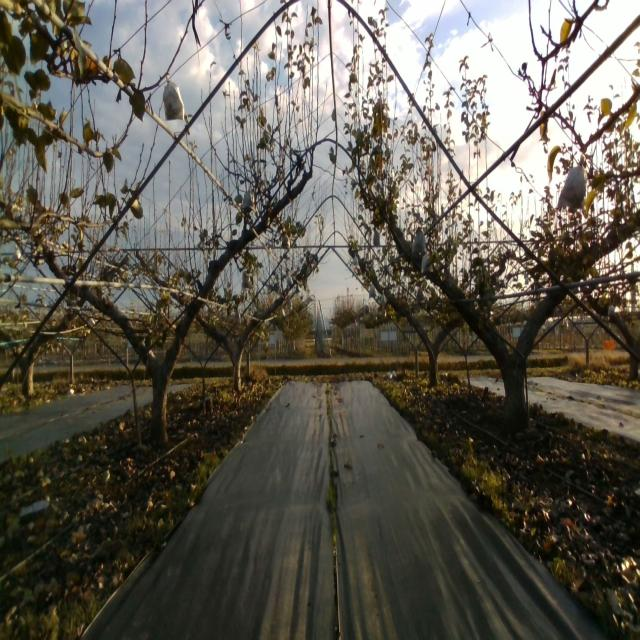pearbags: (557, 153, 588, 210), (163, 74, 185, 121), (241, 184, 256, 213), (410, 230, 426, 255), (421, 253, 434, 273), (242, 270, 252, 290)
